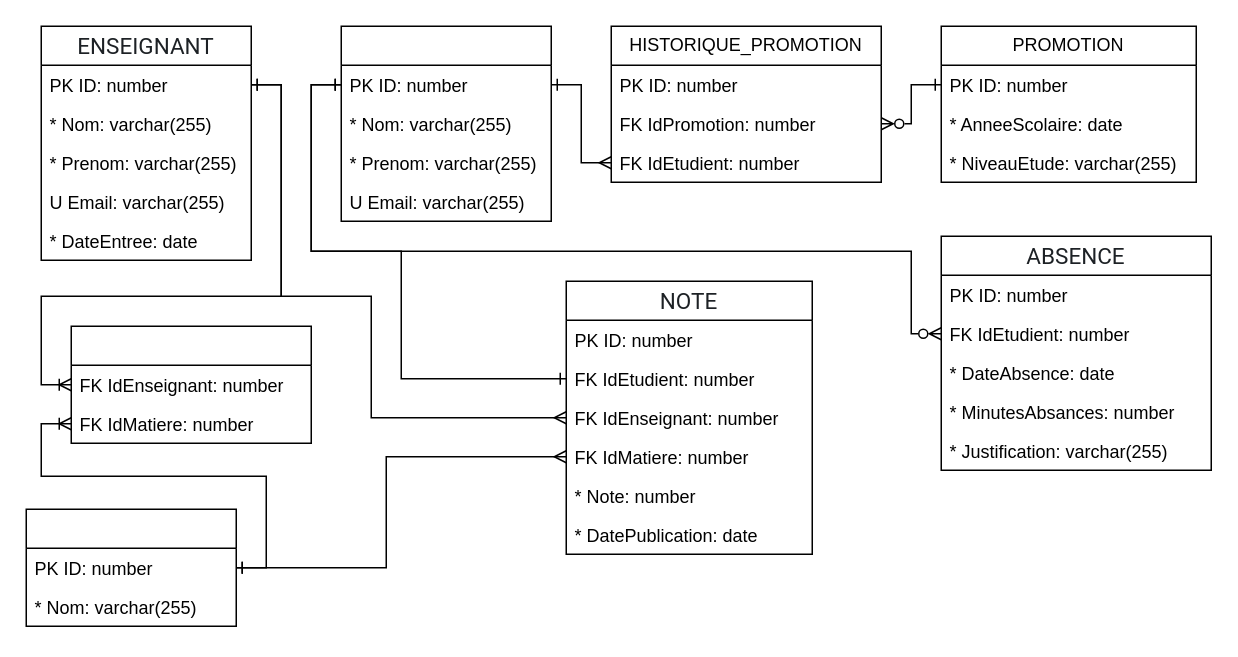
This 1238x657 diagram has some shape labels left out. The shapes that lost their labels are listed below. From the top down, each one's box as (x1, y1, x2, y2) in pixels, then its label:
(340, 25, 551, 221): ETUDIENT
(70, 325, 311, 443): ENSEIGNE
(25, 508, 236, 626): MATIERE
